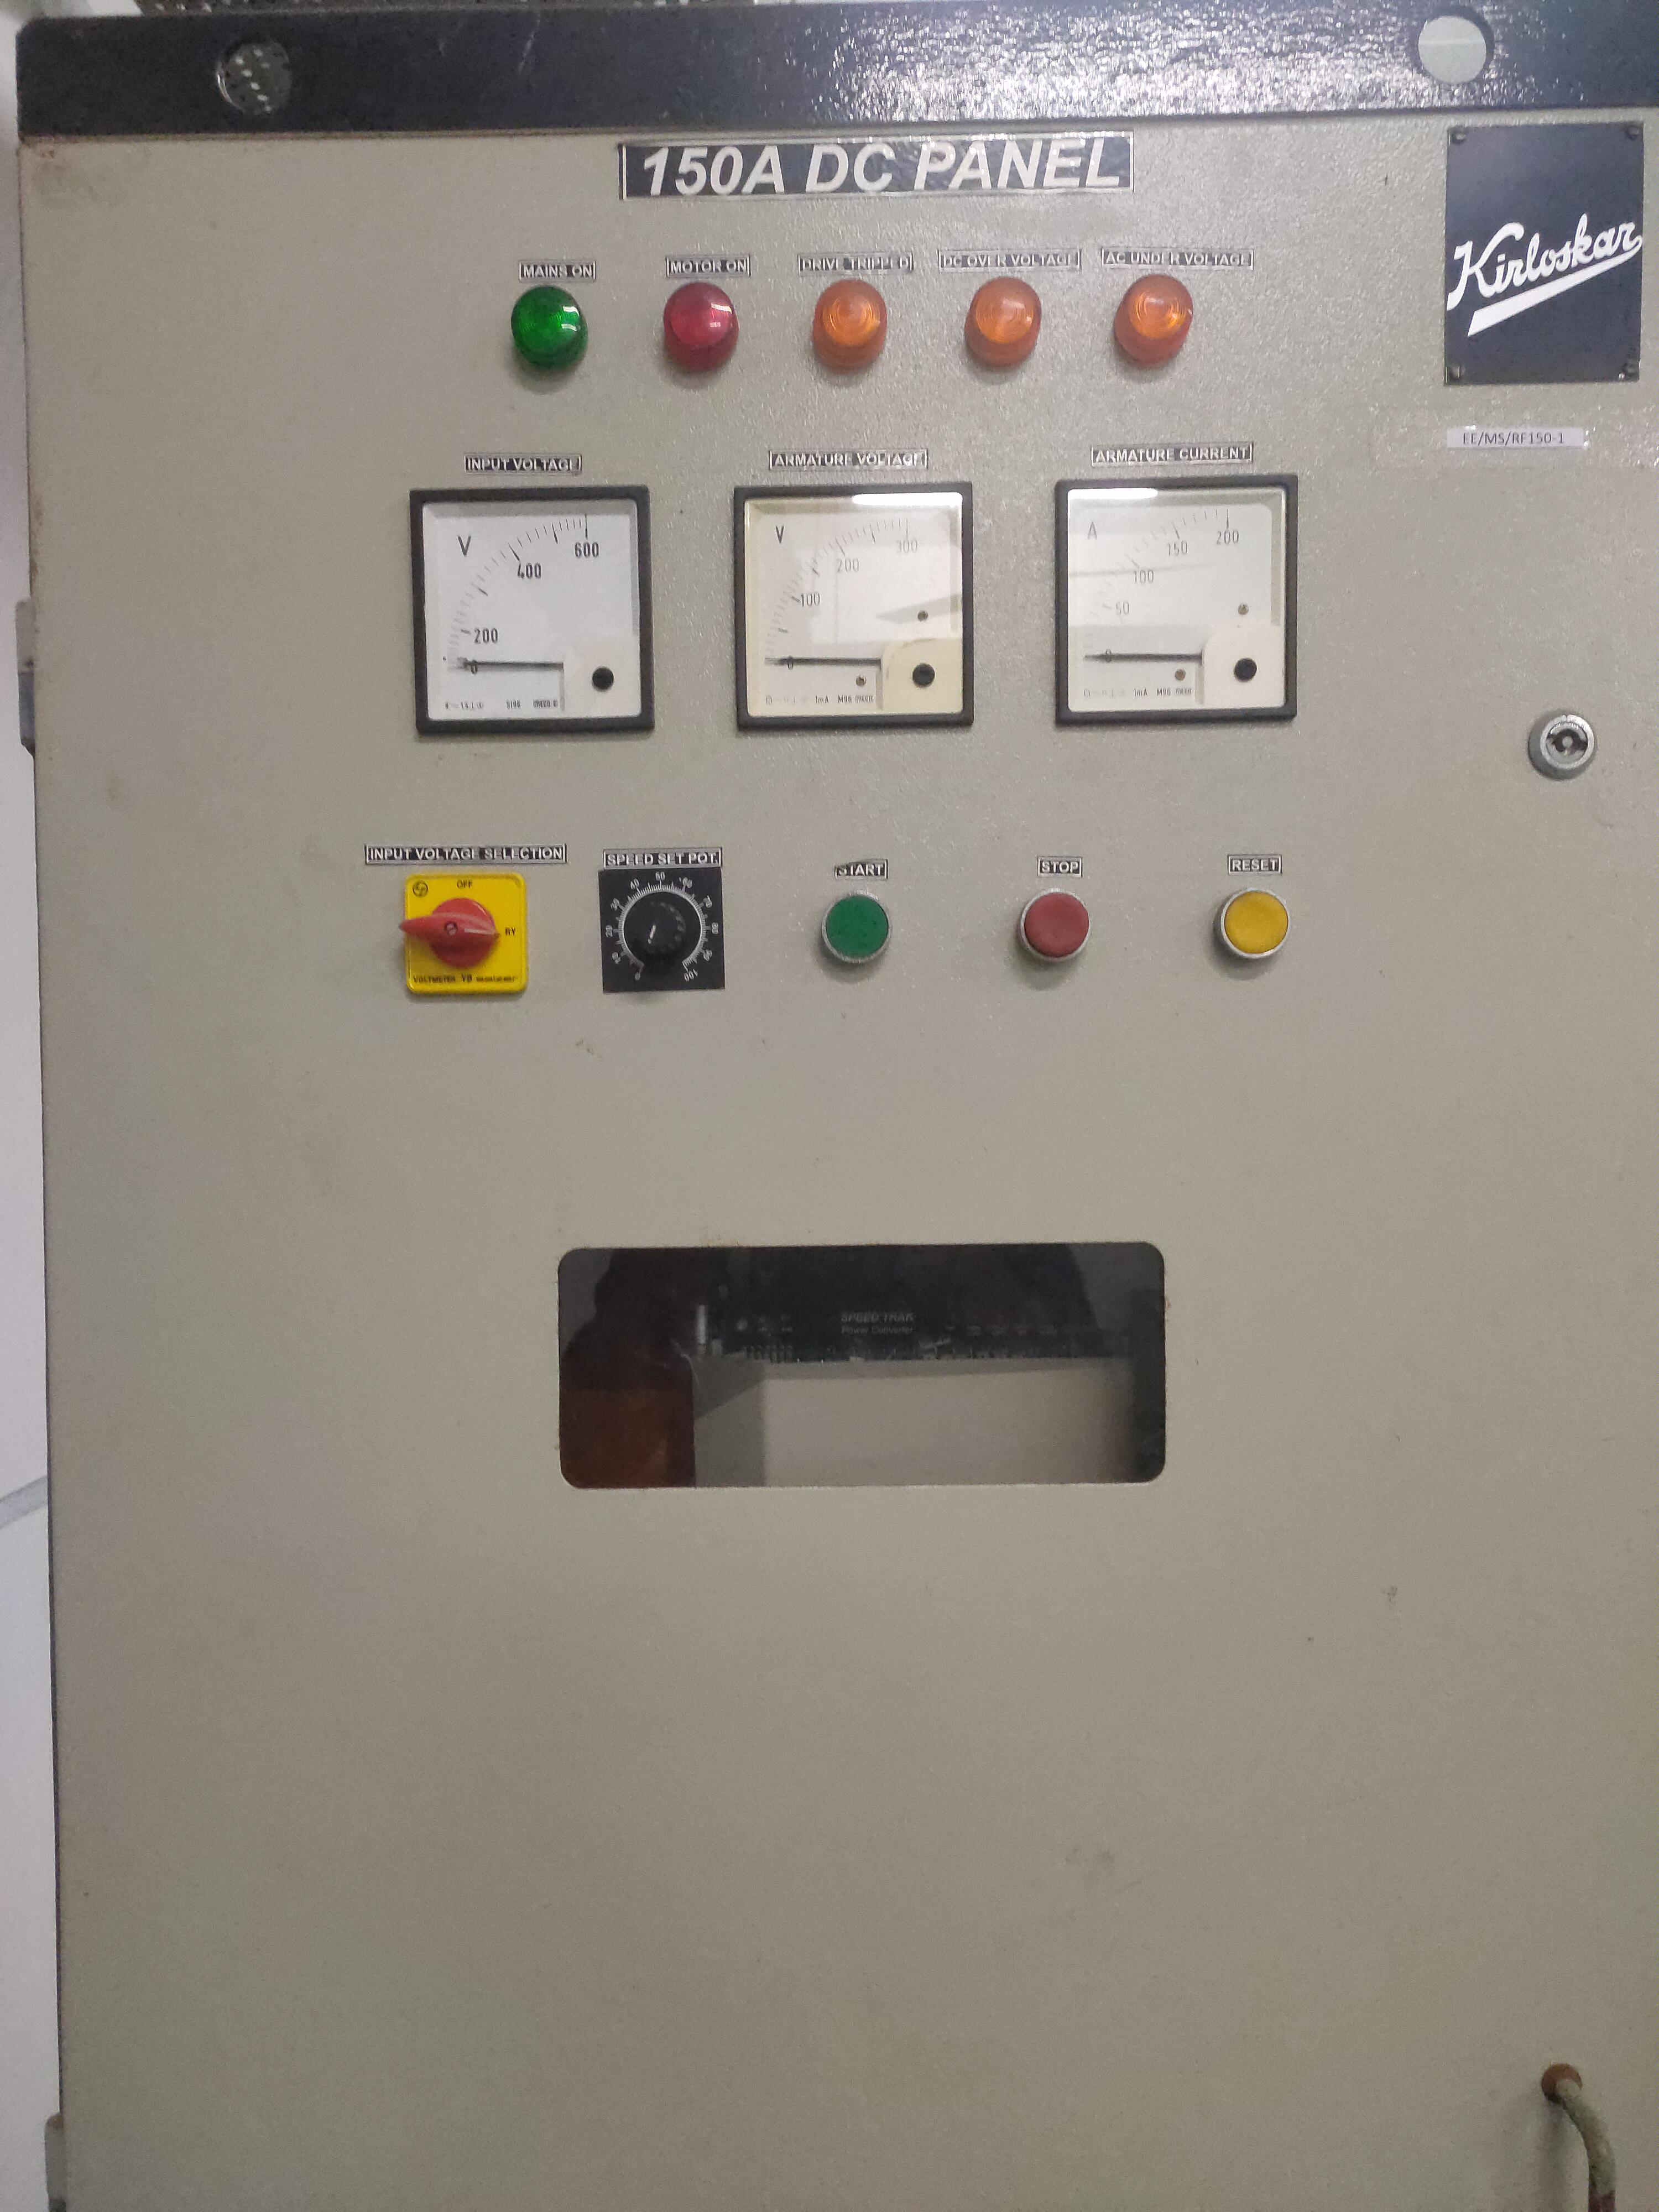Light Indications: (451, 242, 1222, 423)
